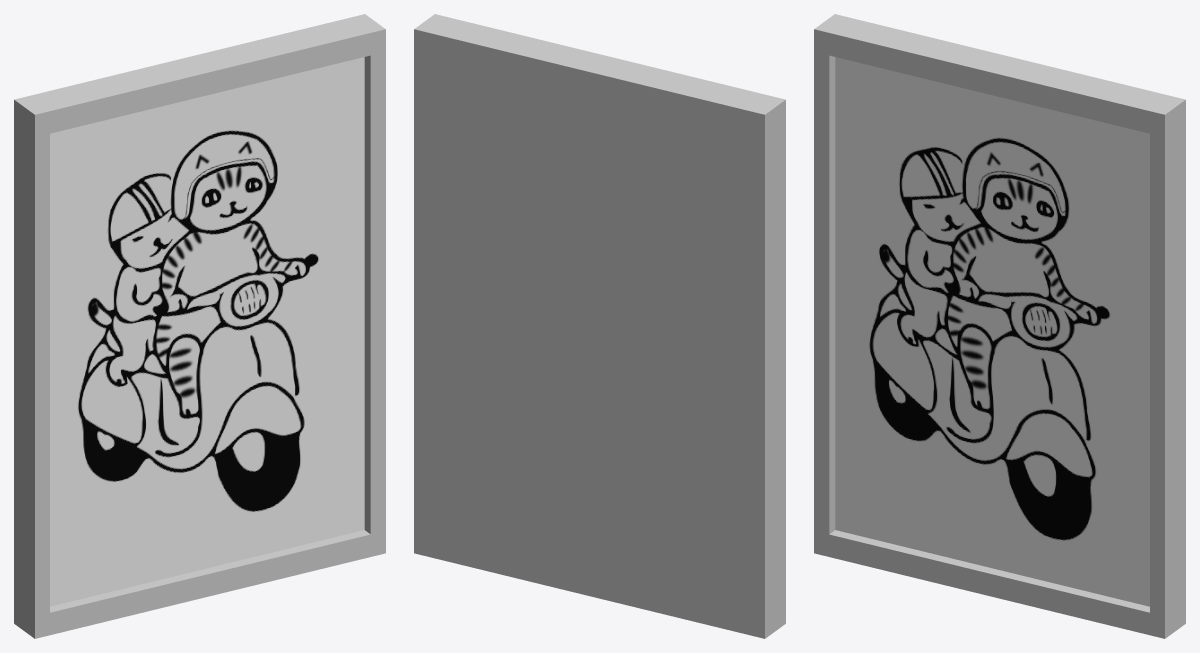
File: RoomS.fbx
3 views of the same model, side by side, from view 1: azimuth 30°, elevation 25°; view 2: azimuth 150°, elevation 25°; view 3: azimuth 330°, elevation 25° (orthographic).
Visible parts, largest first — view 1: Frame, Frame.001; view 2: Frame.001; view 3: Frame, Frame.001.
Part boxes in pixels (bbox=[...]): Frame: bbox=[50, 57, 364, 606]; Frame.001: bbox=[14, 14, 385, 638]; Frame.001: bbox=[414, 14, 785, 638]; Frame: bbox=[835, 57, 1149, 606]; Frame.001: bbox=[814, 14, 1185, 638].
Bounding box in the file's own units: 38.92 × 55.55 × 4.
Materials: 2 (1 with a texture image).
